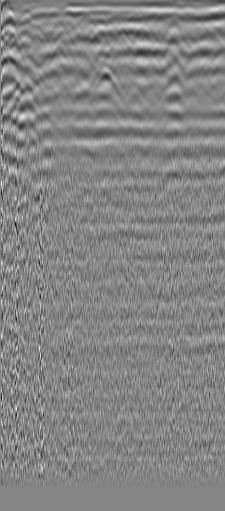가스: (210, 159, 225, 183)
오수: (18, 12, 39, 33)
우수: (157, 15, 192, 57)
